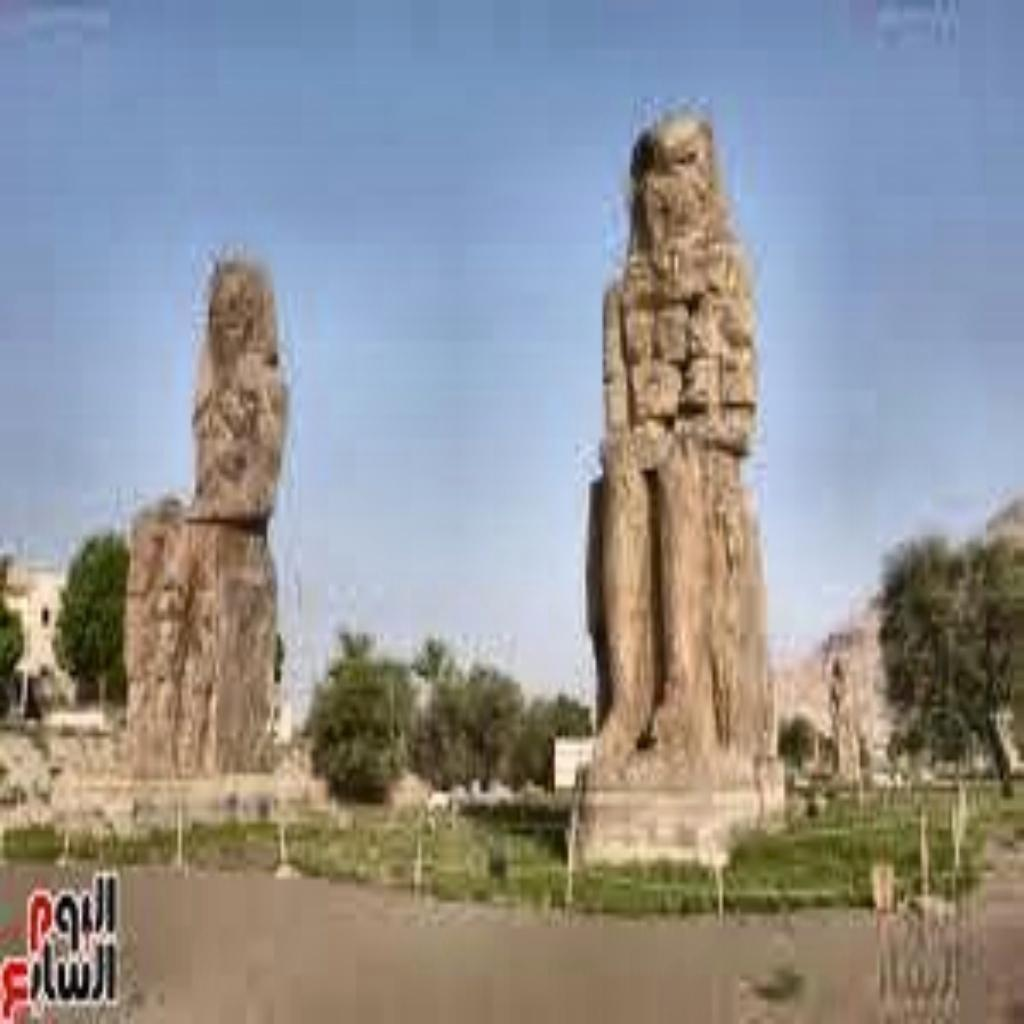Colossoi of Memnon: (562, 98, 788, 872), (120, 231, 284, 775)
